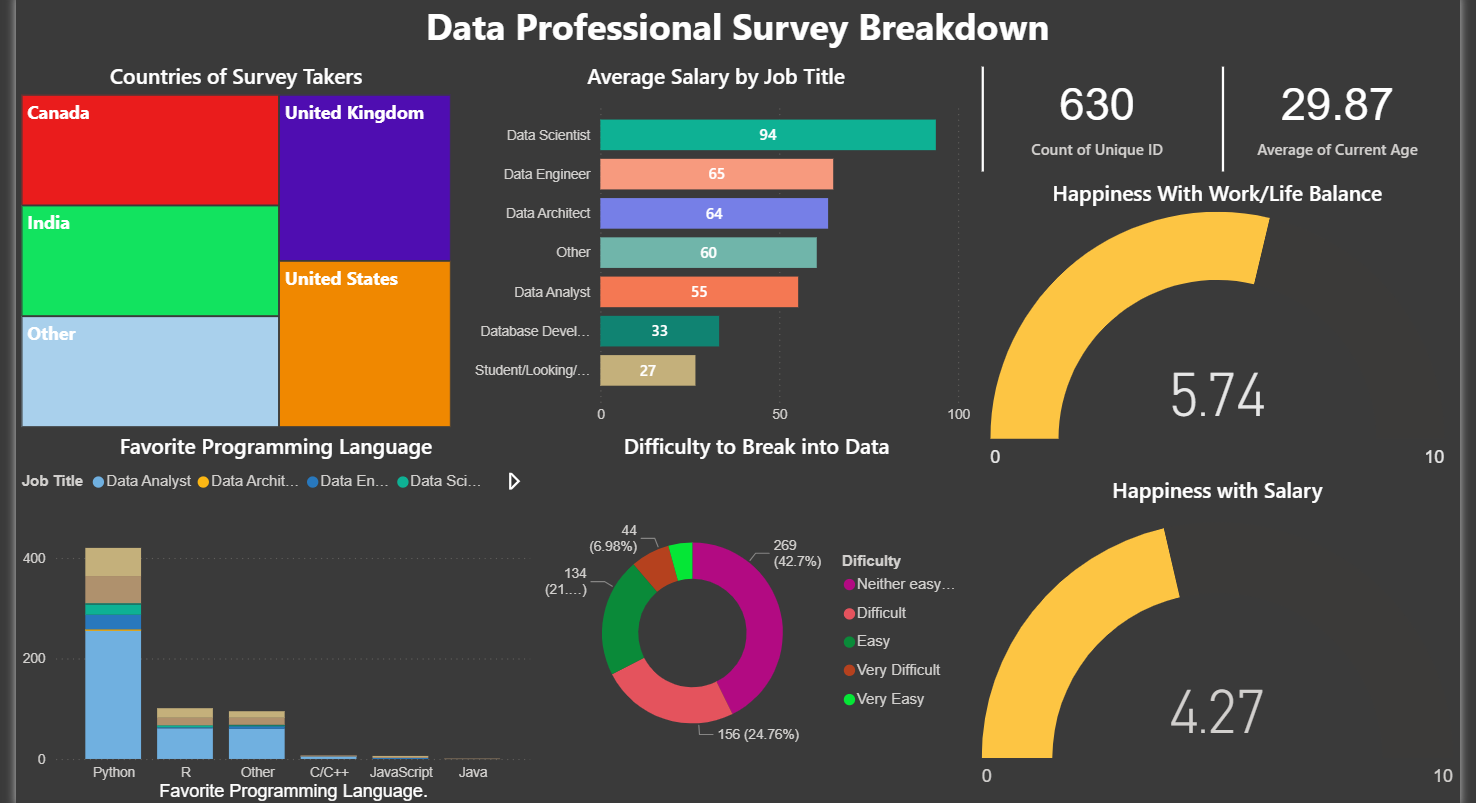

The dashboard page shown, as its layout file describes it:
{"tool":"powerbi","page":{"name":"Page 1","canvas":[1280,720],"ordinal":0},"visuals":[{"type":"textbox","box":[0,0,1279.7,57.3],"z":0},{"type":"cardVisual","fields":{"Data":["Count(Data Professional Survey.Unique ID)","Avg(Data Professional Survey.Q10 - Current Age)"]},"box":[851.6,58.2,428.1,103.9],"z":1000},{"type":"barChart","title":"Average Salary by Job Title","fields":{"Category":["Data Professional Survey.Q1 - Which Title Best Fits your Current Role?.1"],"Y":["Avg(Data Professional Survey.Average Salary)"],"Series":["Data Professional Survey.Q1 - Which Title Best Fits your Current Role?.1"]},"box":[390.4,58.2,461.2,329.6],"z":2000},{"type":"columnChart","title":"Favorite Programming Language","fields":{"Category":["Data Professional Survey.Q5 - Favorite Programming Language.1"],"Y":["CountNonNull(Data Professional Survey.Unique ID)"],"Series":["Data Professional Survey.Q1 - Which Title Best Fits your Current Role?.1"]},"box":[0,386.9,461.2,333.1],"z":3000},{"type":"treemap","title":"Countries of Survey Takers","fields":{"Group":["Data Professional Survey.Q11 - Which Country do you live in?.1"],"Values":["Count(Data Professional Survey.Q11 - Which Country do you live in?.1)"]},"box":[0,58.2,390.4,329.6],"z":4000},{"type":"gauge","title":"Happiness With Work/Life Balance","fields":{"Y":["Avg(Data Professional Survey.Q6 - How Happy are you in your Current Position with the following? (Work/Life Balance))"],"MaxValue":["Max(Data Professional Survey.Q6 - How Happy are you in your Current Position with the following? (Work/Life Balance))1"],"MinValue":["Min(Data Professional Survey.Q6 - How Happy are you in your Current Position with the following? (Work/Life Balance))"]},"box":[851.6,162.1,428.1,263.3],"z":5000},{"type":"gauge","title":"Happiness with Salary","fields":{"Y":["Avg(Data Professional Survey.Q6 - How Happy are you in your Current Position with the following? (Salary))"],"MinValue":["Min(Data Professional Survey.Q6 - How Happy are you in your Current Position with the following? (Salary))"],"MaxValue":["Max(Data Professional Survey.Q6 - How Happy are you in your Current Position with the following? (Salary))"]},"box":[851.6,425.4,428.1,294.6],"z":6000},{"type":"donutChart","title":"Difficulty to Break into Data","fields":{"Y":["CountNonNull(Data Professional Survey.Q7 - How difficult was it for you to break into Data?)"],"Category":["Data Professional Survey.Q7 - How difficult was it for you to break into Data?"]},"box":[462.1,386.9,389.6,333.1],"z":7000}]}

Visuals, with their boxes in screenshot pixels (x1, y1, x2, y2):
textbox: <box>50,15,1458,78</box>
cardVisual - Count(Data Professional Survey.Unique ID) x Avg(Data Professional Survey.Q10 - Current Age): <box>987,79,1458,194</box>
"Average Salary by Job Title" barChart: <box>480,79,987,442</box>
"Favorite Programming Language" columnChart: <box>50,441,557,802</box>
"Countries of Survey Takers" treemap: <box>50,79,480,442</box>
"Happiness With Work/Life Balance" gauge: <box>987,194,1458,483</box>
"Happiness with Salary" gauge: <box>987,483,1458,802</box>
"Difficulty to Break into Data" donutChart: <box>558,441,987,802</box>
